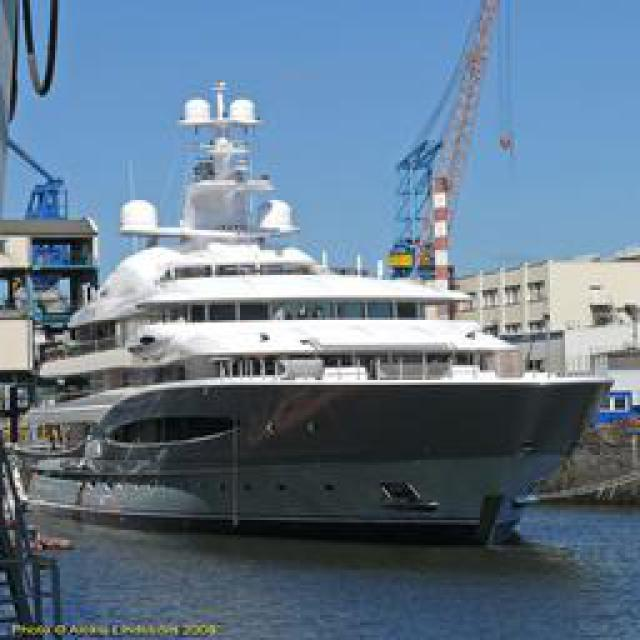Ship: (16, 247, 616, 540)
